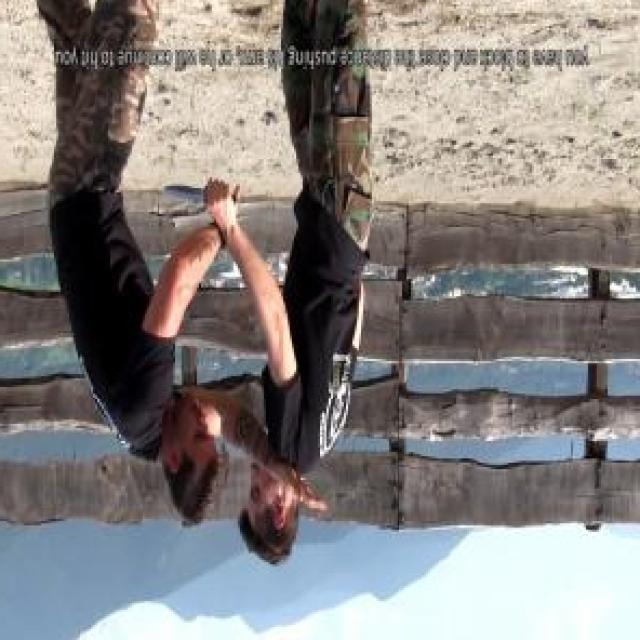knife: (159, 178, 244, 218)
